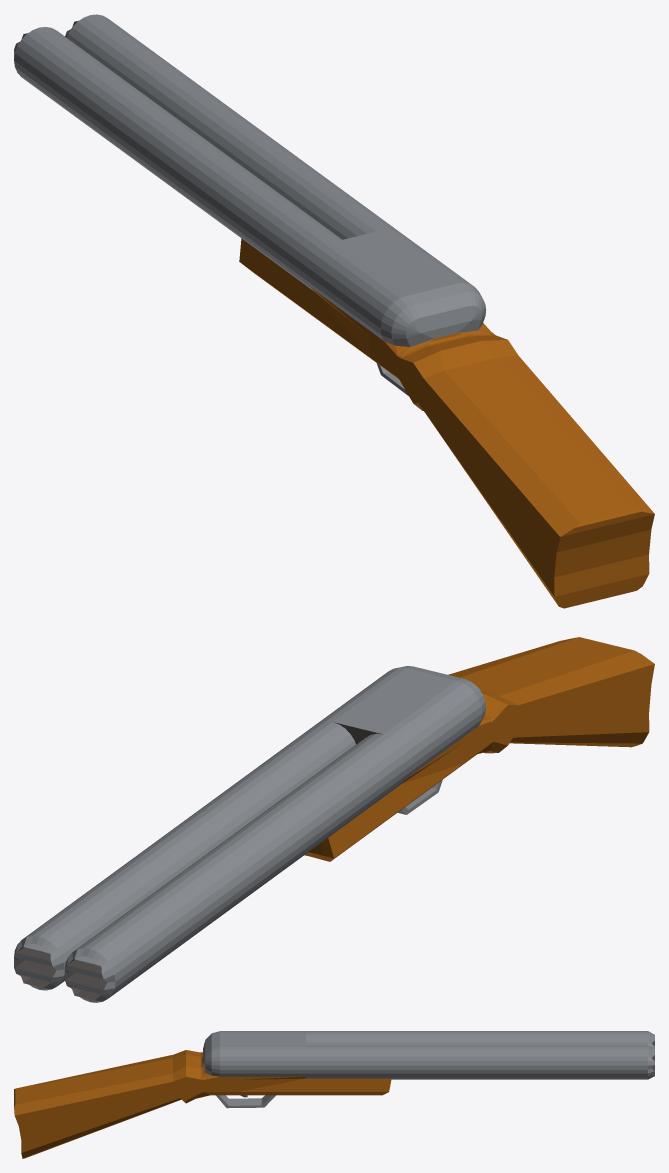
The model's file is Super Shuriken Shotgun_3DModel_3.fbx.
3 views of the same model, one above another, from view 1: azimuth 30°, elevation 25°; view 2: azimuth 150°, elevation 25°; view 3: azimuth 270°, elevation 25° (orthographic). The views are drawn at different scales.
Visible parts, largest first — view 1: Back End, Front End; view 2: Front End, Back End; view 3: Front End, Back End.
Boxes of the visible parts, box(x1,y1,x2,y2) form: Back End: box(307, 229, 654, 608); Front End: box(14, 14, 400, 318); Front End: box(14, 721, 408, 1002); Back End: box(316, 637, 654, 814); Front End: box(306, 1031, 654, 1095); Back End: box(14, 1031, 305, 1158).
Size of the model in its own units: 0.2 by 0.3529 by 1.87.
